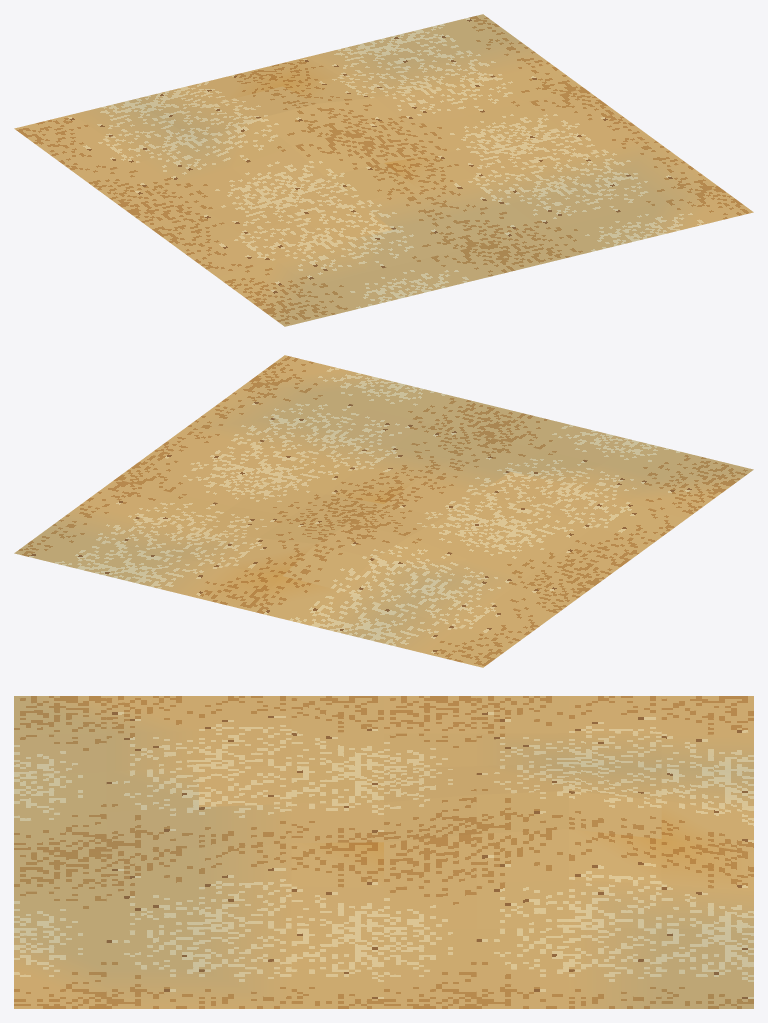
File: wland.ground__dunes.glb
3 views of the same model, one above another, from view 1: azimuth 30°, elevation 25°; view 2: azimuth 150°, elevation 25°; view 3: azimuth 270°, elevation 25° (orthographic). The views are drawn at different scales.
Visible parts, largest first — view 1: kit_shell_ground; view 2: kit_shell_ground; view 3: kit_shell_ground.
Part boxes in pixels (left/top/right/bottom): kit_shell_ground: left=14, top=14, right=753, bottom=326; kit_shell_ground: left=14, top=355, right=753, bottom=667; kit_shell_ground: left=14, top=696, right=753, bottom=1008.
Bounding box in the file's own units: 12 × 0.418 × 12.
1 material, 1 textured.
